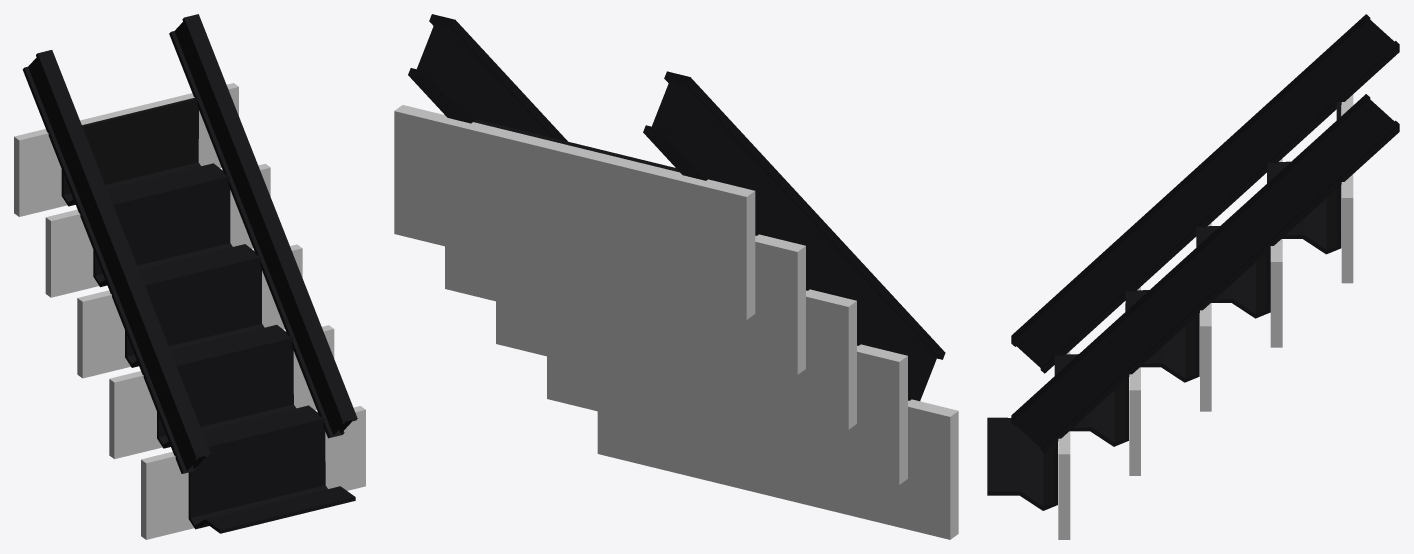
File: staircase001.FBX
The picture shows the model from 3 angles, left to right: view 1: azimuth 30°, elevation 25°; view 2: azimuth 150°, elevation 25°; view 3: azimuth 270°, elevation 25°; orthographic projection. The views are drawn at different scales.
Visible parts, largest first — view 1: staircase001; view 2: staircase001; view 3: staircase001.
Part boxes in pixels (x1,y1,x2,y2): staircase001: (14, 14, 365, 539); staircase001: (394, 14, 958, 539); staircase001: (987, 14, 1399, 539).
Bounding box in the file's own units: 120 × 197 × 175.
